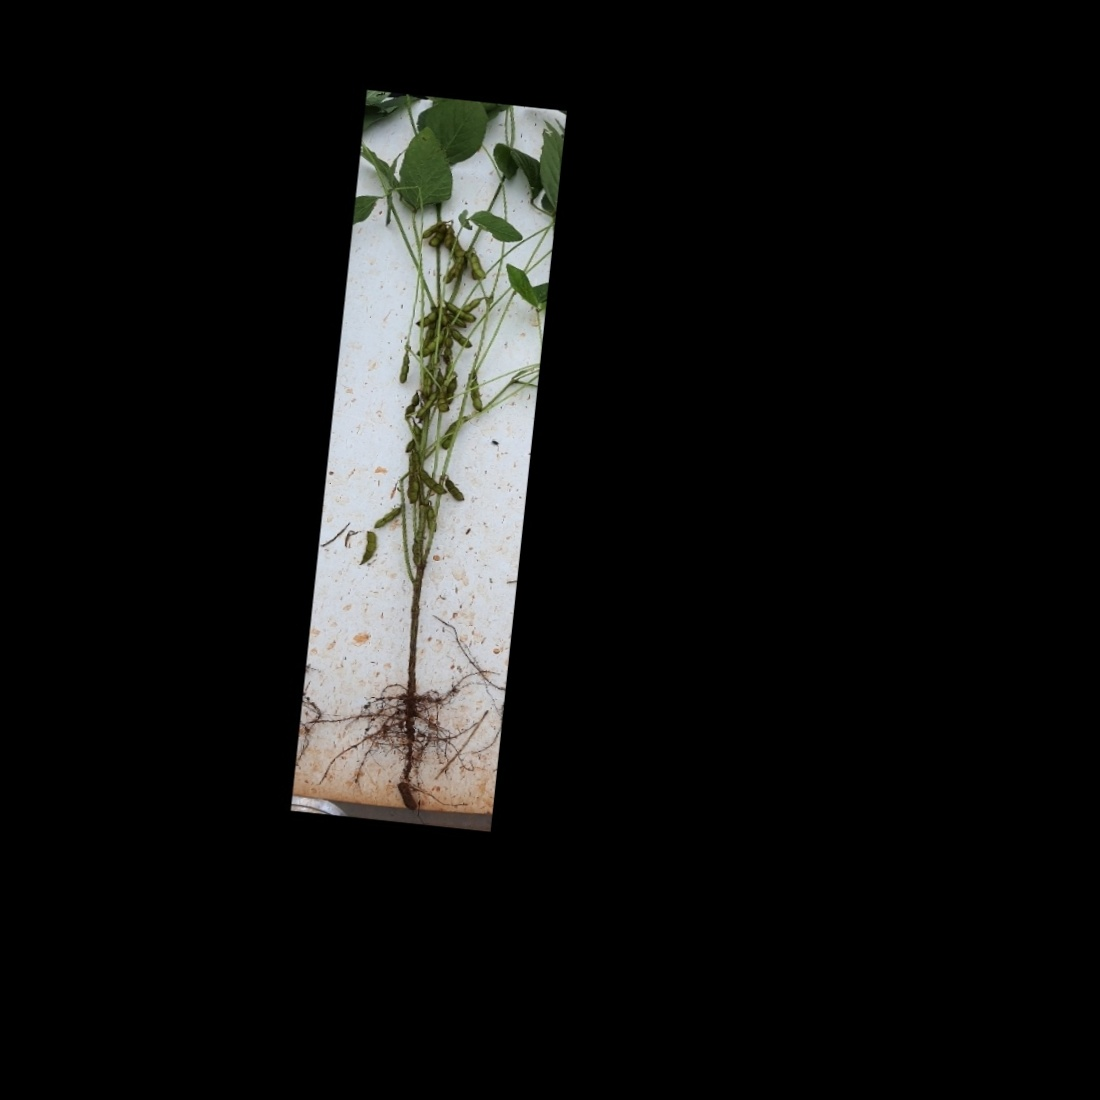pod: (462, 366, 491, 416), (411, 385, 443, 425), (354, 527, 382, 568), (436, 473, 471, 504), (438, 301, 482, 325), (393, 350, 420, 388), (370, 500, 402, 532), (464, 246, 491, 284), (413, 469, 449, 497), (425, 219, 453, 252), (444, 324, 477, 351)
soy: (300, 99, 559, 759)
